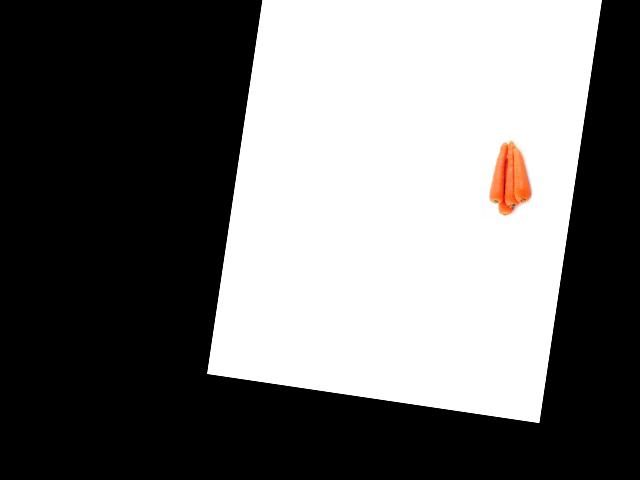carrot: (511, 146, 536, 205)
